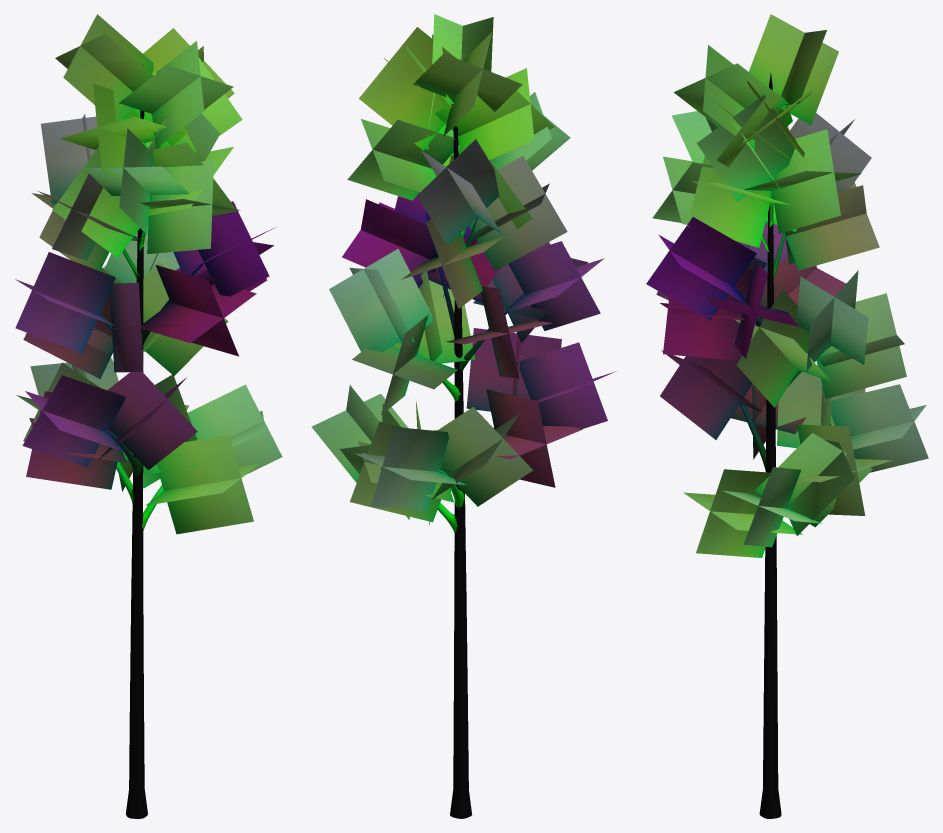
The model's file is URP_P5_Tree_2_LOD_1.fbx.
3 renders of one model, left to right at view 1: azimuth 30°, elevation 25°; view 2: azimuth 150°, elevation 25°; view 3: azimuth 270°, elevation 25°, orthographic.
Parts seen in each view (by area): view 1: Tree_2_LOD_1; view 2: Tree_2_LOD_1; view 3: Tree_2_LOD_1.
Boxes of the visible parts, x1,y1,x2,y2 form: Tree_2_LOD_1: [15, 14, 282, 818]; Tree_2_LOD_1: [311, 14, 616, 818]; Tree_2_LOD_1: [646, 14, 928, 818].
Bounding box in the file's own units: 292 × 822 × 268.
